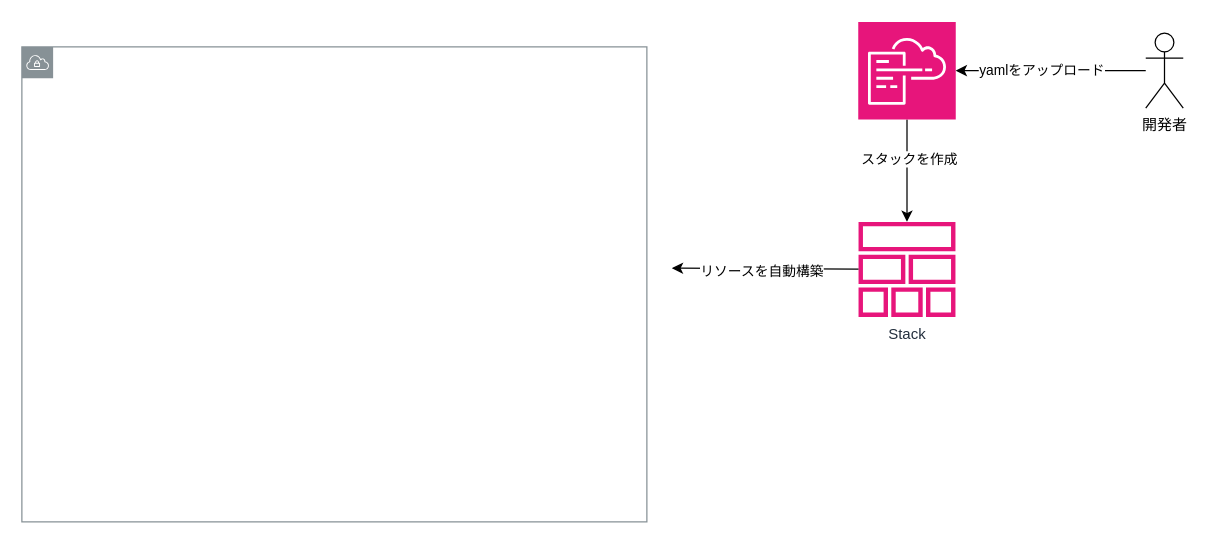
Image size: 1209x544. Some labels were removed from this diagram. The centre of each missing label's shape, as x and y in pixels:
"Cloudforamation" belongs at point (906, 70).
"VPC" belongs at point (334, 284).
